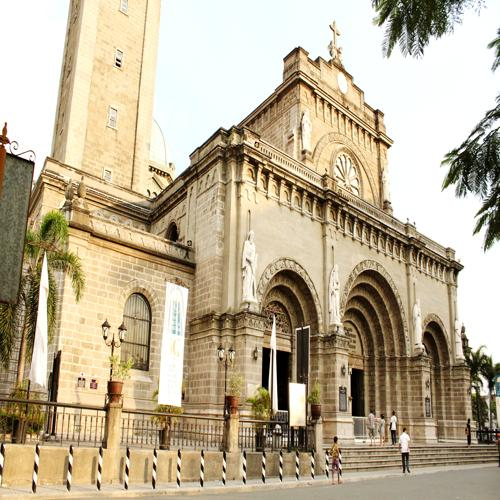Manila Cathedral Church: (10, 7, 490, 453)
